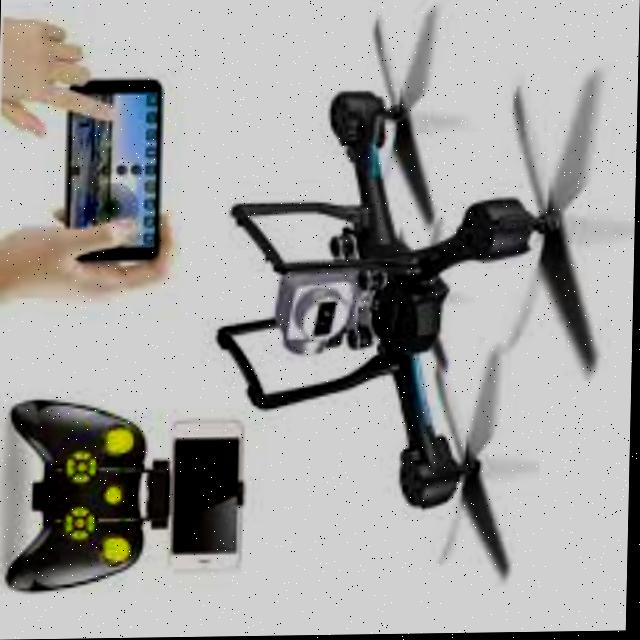drone: (220, 51, 600, 600)
